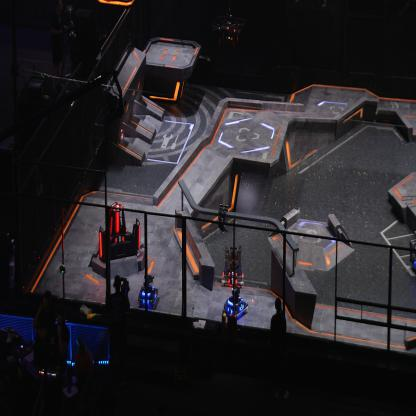car: (221, 244, 244, 288), (224, 282, 248, 318), (137, 273, 159, 310), (108, 124, 126, 146), (409, 228, 416, 272)
